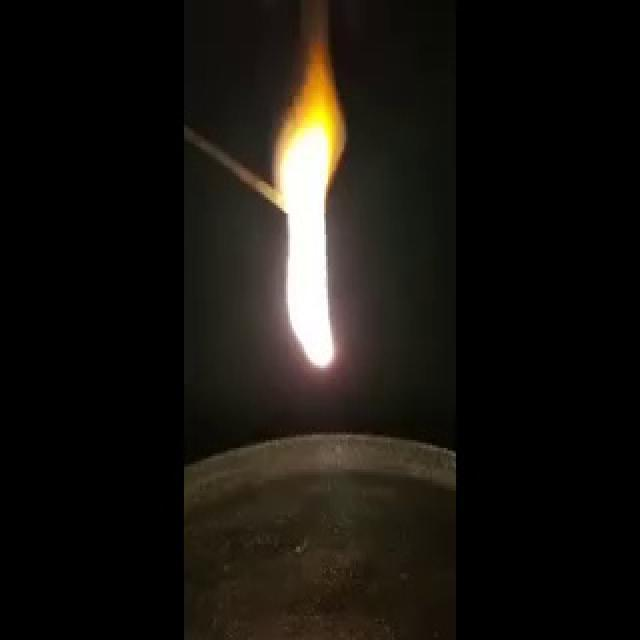fire: (264, 64, 342, 379)
